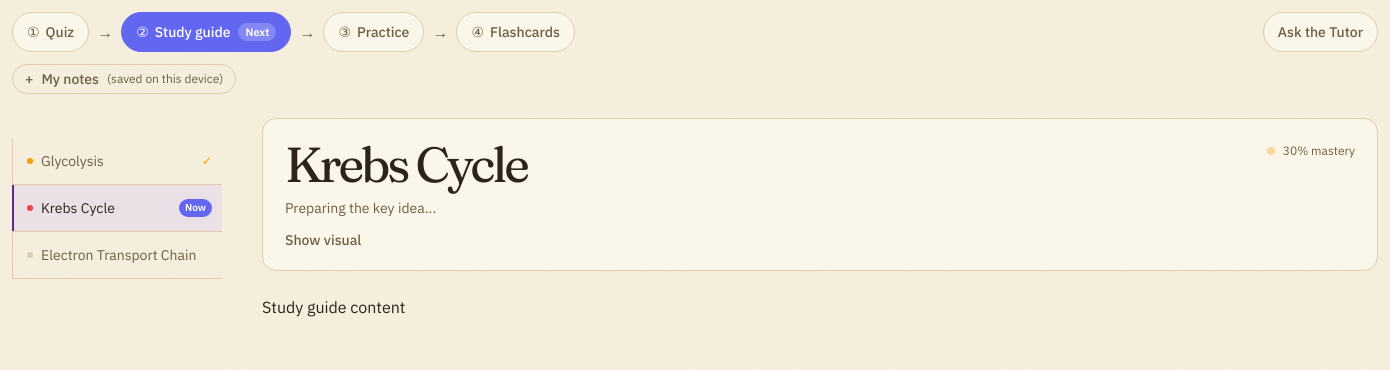
Test: MaterialWorkspace › keeps the Tutor beside the steps, with the general chat clearly labelled
Click the button "Ask the Tutor" at (1320, 32), box [1263, 12, 1378, 52]
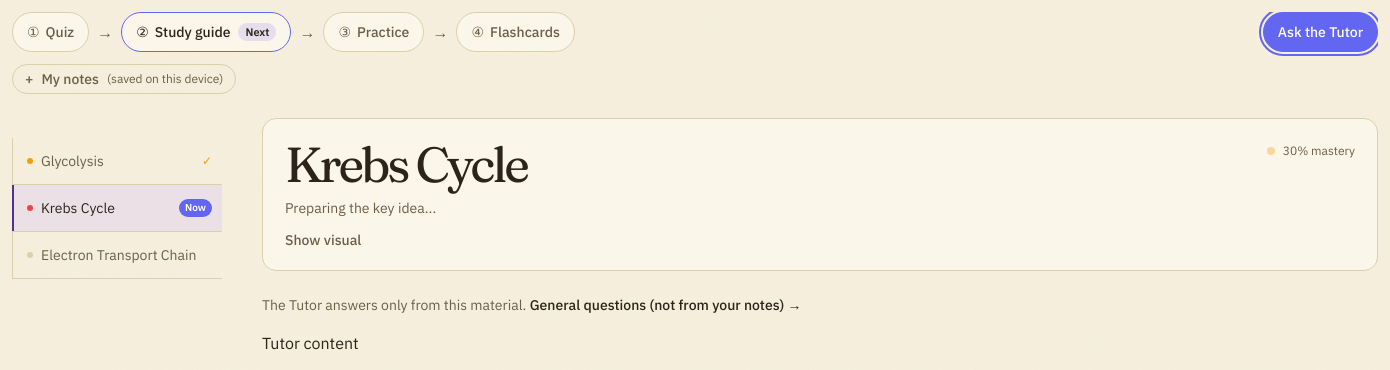
Check: the text "Tutor content" is shown, box [262, 333, 359, 353]
